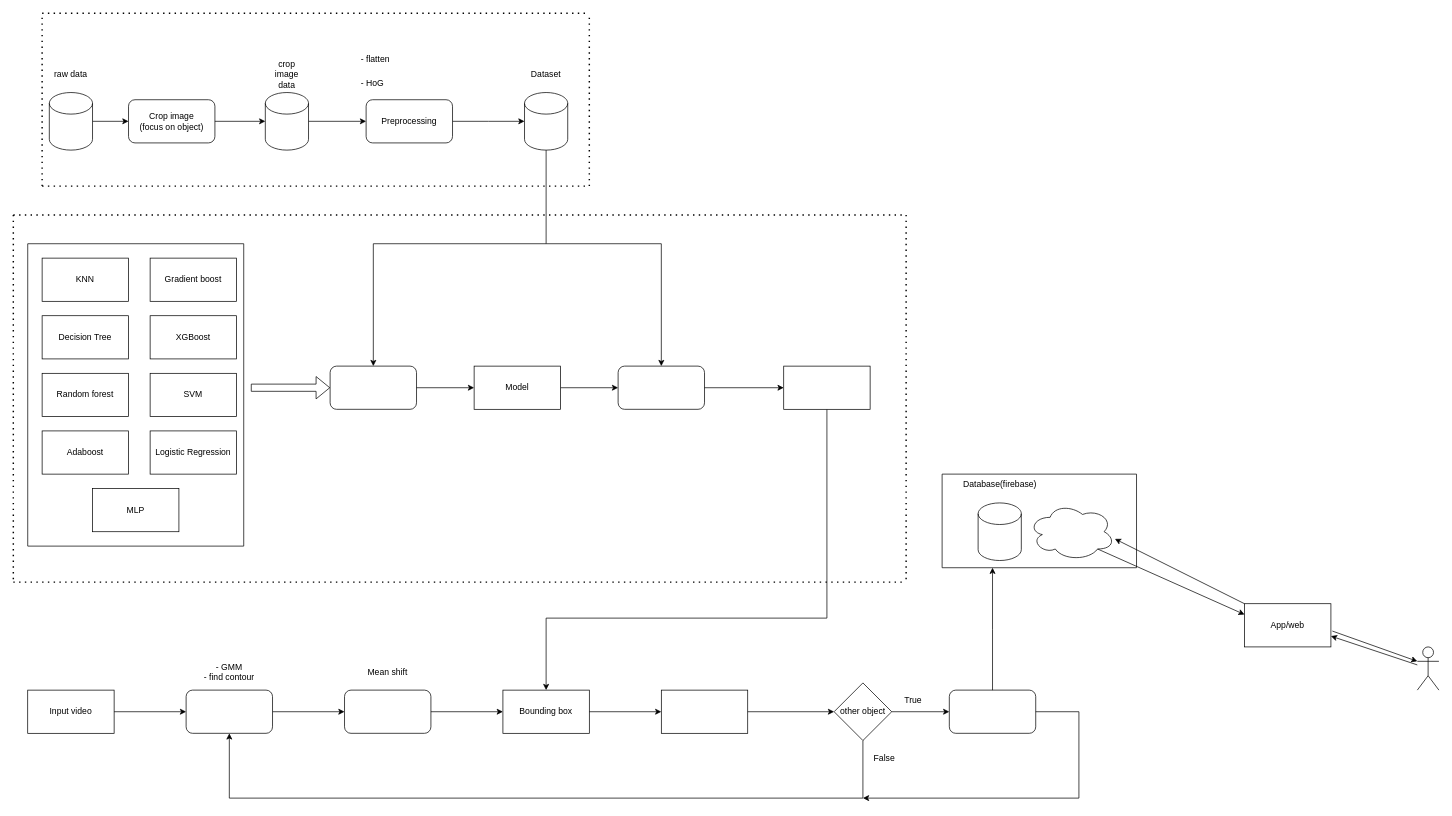
The diagram is 1452 pixels wide and 816 high, and some of its shapes have lost their labels. The box of each missing label's shape, as (x1, y1, x2, y2) in pixels:
bounding box with predict class: (661, 689, 748, 733)
count++: (949, 689, 1036, 733)
Detect object: (185, 689, 273, 733)
Model selection: (329, 365, 417, 409)
object tracking: (344, 689, 431, 733)
Trained model: (783, 365, 870, 409)
Training: (617, 365, 705, 409)
users: (1417, 646, 1439, 690)
